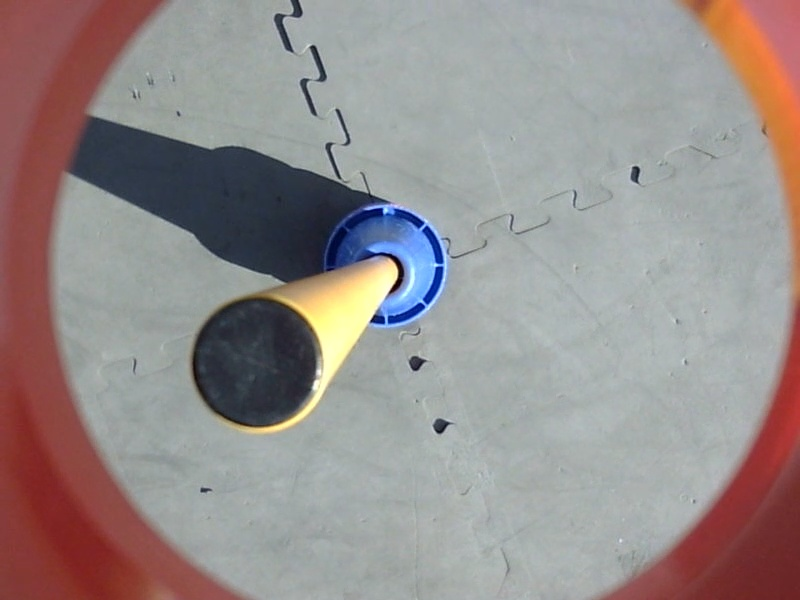tip: (186, 290, 331, 437)
